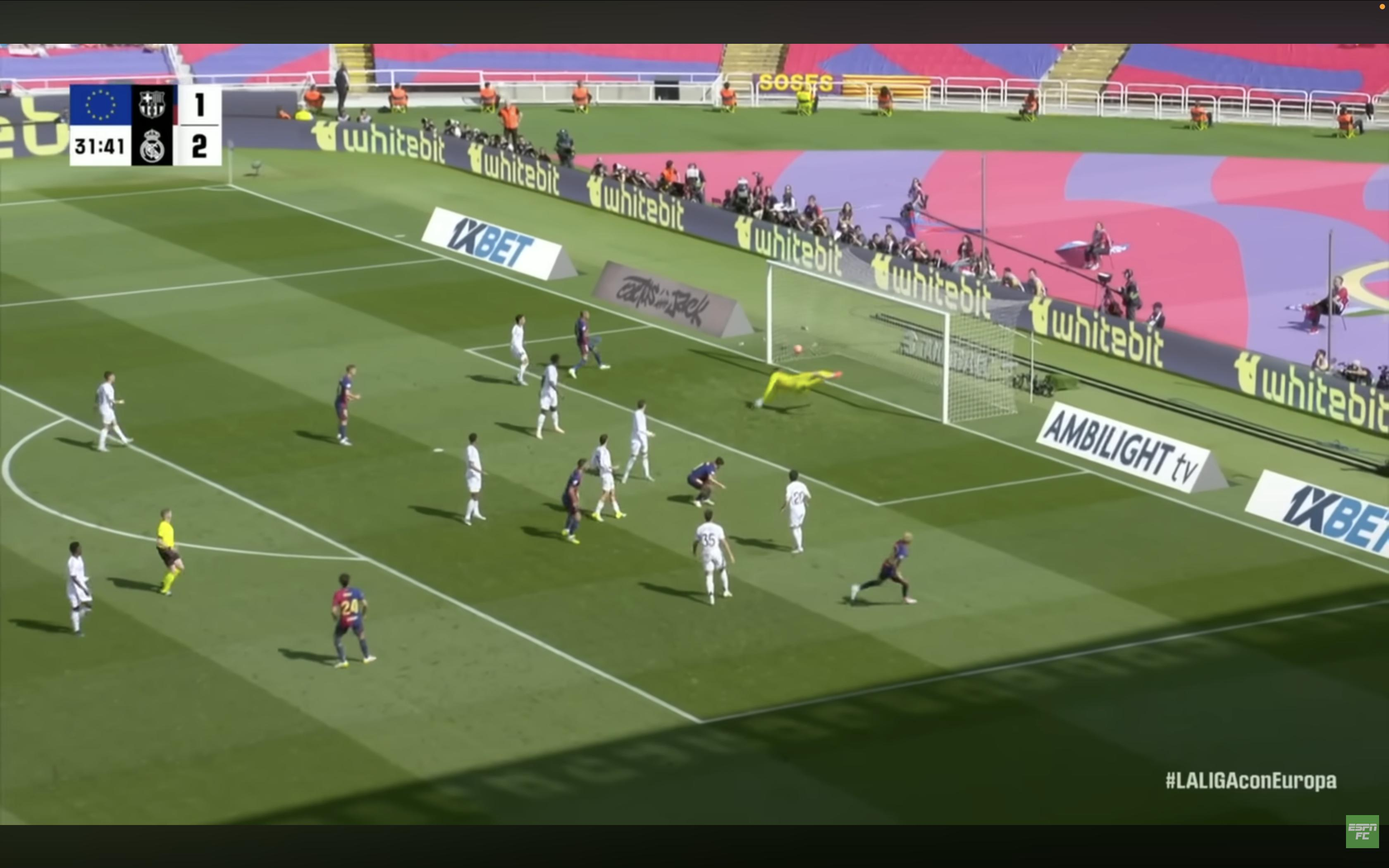ball: (792, 343, 804, 355)
goalkeeper: (754, 370, 842, 408)
player: (850, 533, 916, 604), (331, 573, 376, 668), (692, 510, 734, 605), (95, 371, 133, 452), (590, 434, 624, 522), (621, 399, 655, 483), (568, 310, 610, 377), (782, 469, 811, 554), (67, 541, 92, 636), (561, 459, 588, 544), (536, 354, 563, 438), (463, 433, 486, 525), (334, 365, 359, 446), (687, 457, 725, 507), (509, 315, 529, 384)
referee: (156, 509, 184, 596)
